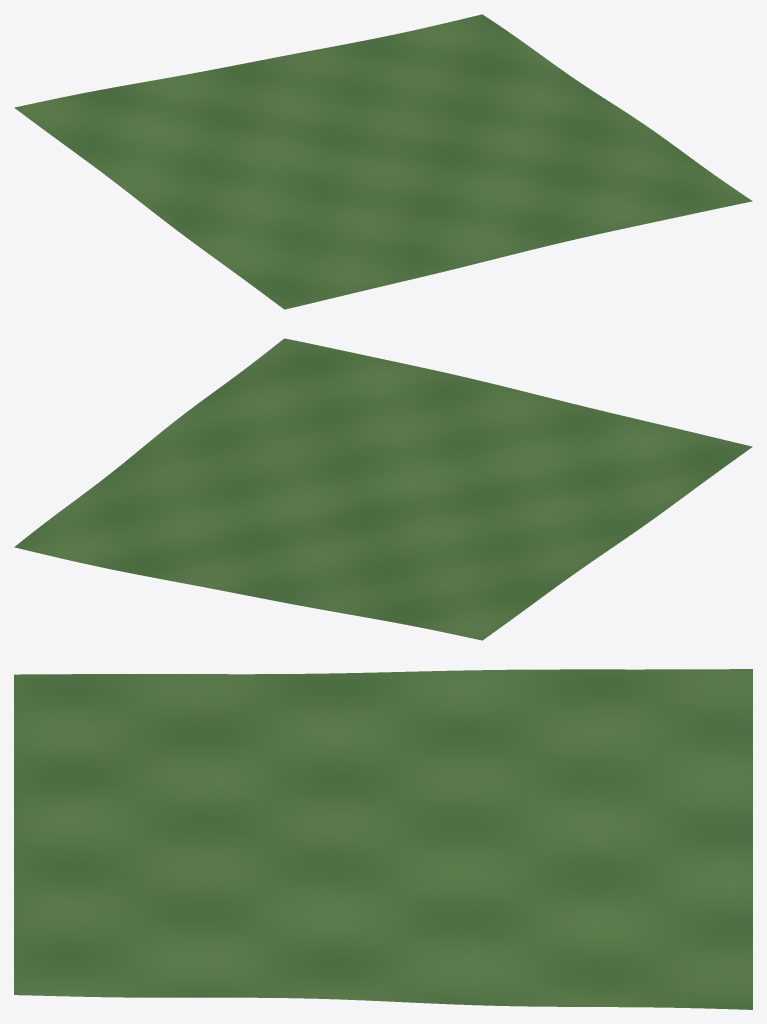
Rendered from chunk_1_6.glb.
The picture shows the model from 3 angles, top to bottom: view 1: azimuth 30°, elevation 25°; view 2: azimuth 150°, elevation 25°; view 3: azimuth 270°, elevation 25°; orthographic projection. The views are drawn at different scales.
Size of the model in its own units: 512 by 21.92 by 512.
